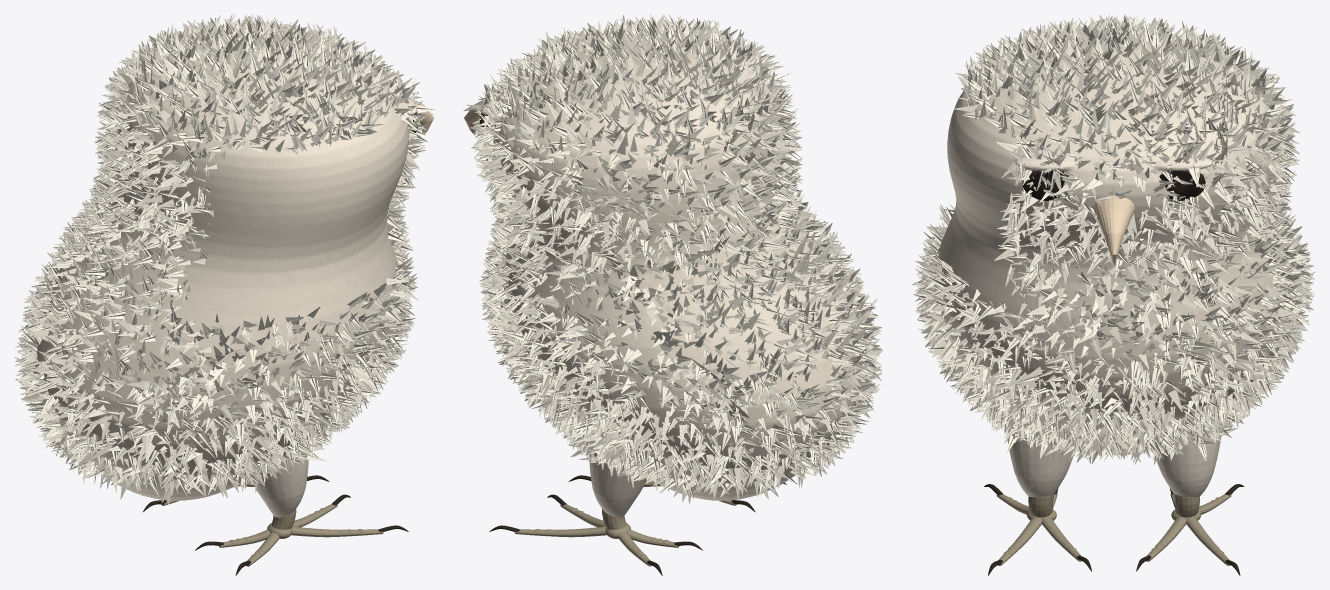
The model's file is v27_pale_BLENDED_groom_UNAPPROVED.glb.
The picture shows the model from 3 angles, left to right: view 1: azimuth 30°, elevation 25°; view 2: azimuth 150°, elevation 25°; view 3: azimuth 270°, elevation 25°; orthographic projection. The views are drawn at different scales.
Parts seen in each view (by area): view 1: down_groom_BLEND_11000, Continuous anatomical skin | owl, Articulated bird toe 1; view 2: down_groom_BLEND_11000, Continuous anatomical skin | owl, Articulated bird toe 1.001; view 3: down_groom_BLEND_11000, Continuous anatomical skin | owl, Closed descending upper hook and seated cere, Articulated bird toe 1, Articulated bird toe 1.001.
Part boxes in pixels (bbox=[...]): down_groom_BLEND_11000: bbox=[14, 14, 434, 504]; Continuous anatomical skin | owl: bbox=[33, 34, 416, 517]; Articulated bird toe 1: bbox=[291, 526, 383, 537]; down_groom_BLEND_11000: bbox=[463, 14, 883, 503]; Continuous anatomical skin | owl: bbox=[481, 35, 864, 517]; Articulated bird toe 1.001: bbox=[514, 526, 606, 537]; down_groom_BLEND_11000: bbox=[912, 14, 1315, 464]; Continuous anatomical skin | owl: bbox=[933, 35, 1293, 496]; Closed descending upper hook and seated cere: bbox=[1093, 195, 1135, 265]; Articulated bird toe 1: bbox=[997, 517, 1041, 565]; Articulated bird toe 1.001: bbox=[1186, 517, 1230, 565].
Bounding box in the file's own units: 0.3314 × 0.3742 × 0.2792.
11 materials, 11 textured.
